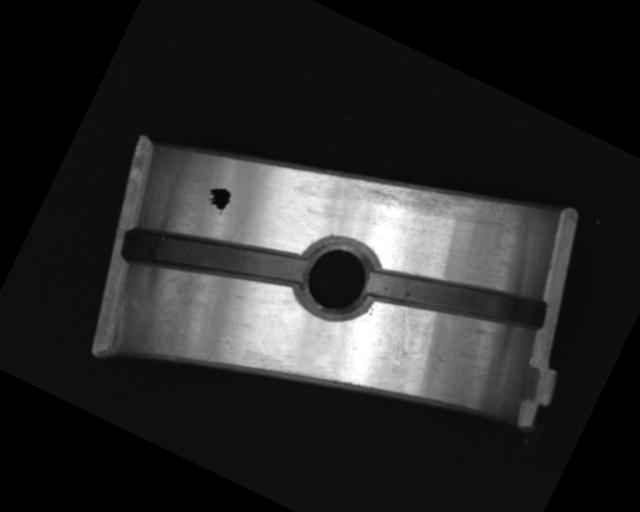blot: (200, 180, 236, 217)
bruise: (422, 349, 450, 377), (217, 332, 235, 351)
gap: (119, 184, 312, 331), (363, 230, 553, 368)
hole: (283, 221, 392, 334)
nick: (377, 305, 426, 371)
scratch: (347, 138, 513, 259)
